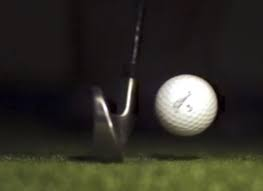golfball: (154, 73, 219, 140)
